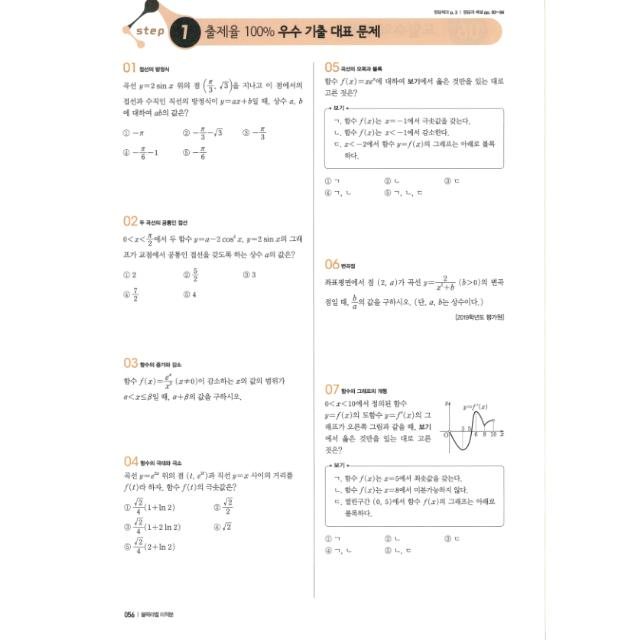multiple: (316, 373, 516, 562), (316, 52, 512, 206), (112, 54, 308, 168), (112, 204, 306, 316), (114, 446, 300, 556)
short: (318, 250, 516, 328), (114, 348, 292, 414)
